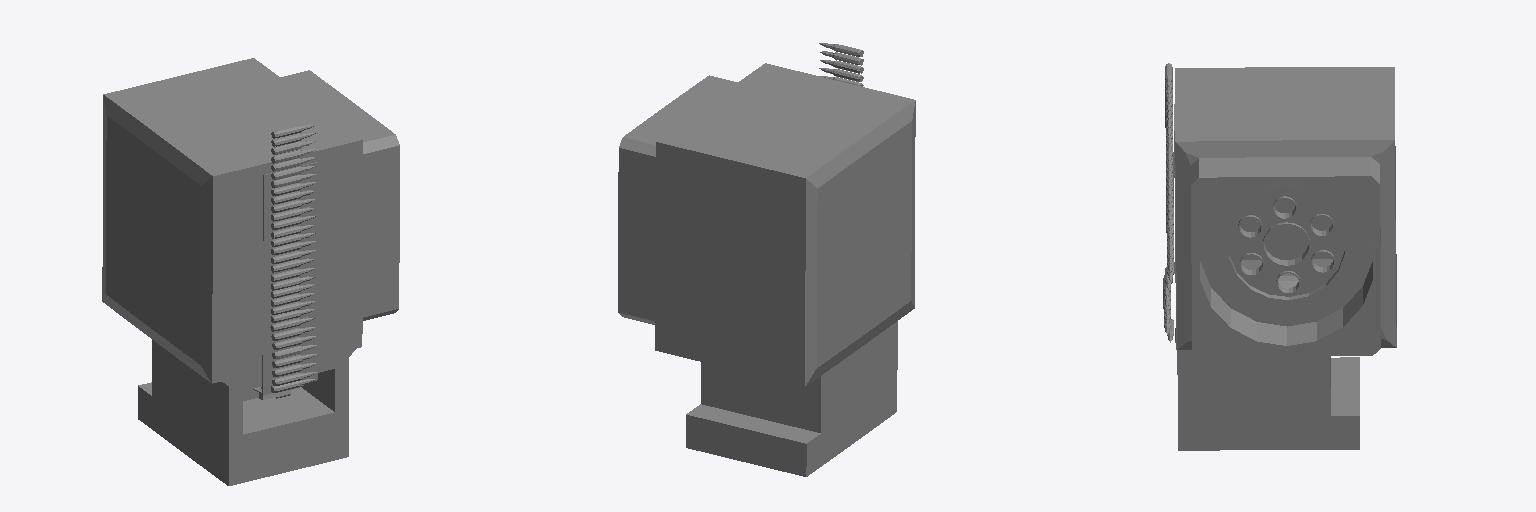
Rendered from MachineGunLowPoly.obj.
3 views of the same model, side by side, from view 1: azimuth 30°, elevation 25°; view 2: azimuth 150°, elevation 25°; view 3: azimuth 270°, elevation 25° (orthographic).
Visible parts, largest first — view 1: 5mm_rounds; view 2: 5mm_rounds; view 3: 5mm_rounds.
Part boxes in pixels (x1,y1,x2,y2): 5mm_rounds: (102,58,399,485); 5mm_rounds: (618,43,915,476); 5mm_rounds: (1163,63,1396,450).
Size of the model in its own units: 16.36 by 27.36 by 16.62.